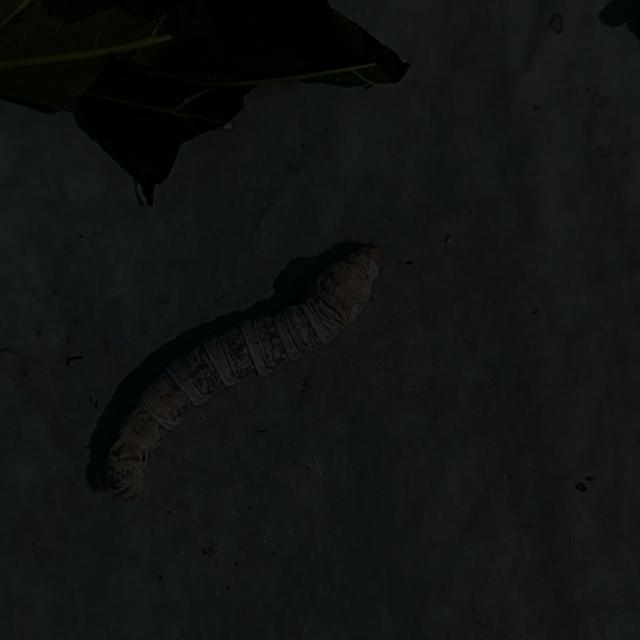Grasserie: (78, 212, 396, 524)
